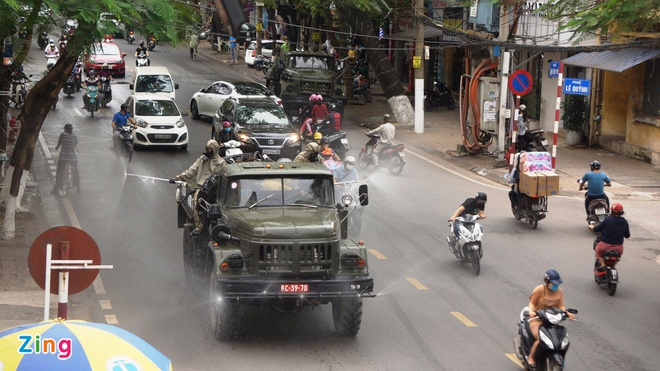plate: (276, 283, 312, 295), (151, 131, 176, 143), (263, 147, 283, 156), (528, 200, 542, 212), (593, 207, 610, 216), (537, 138, 551, 148), (395, 149, 407, 159)
